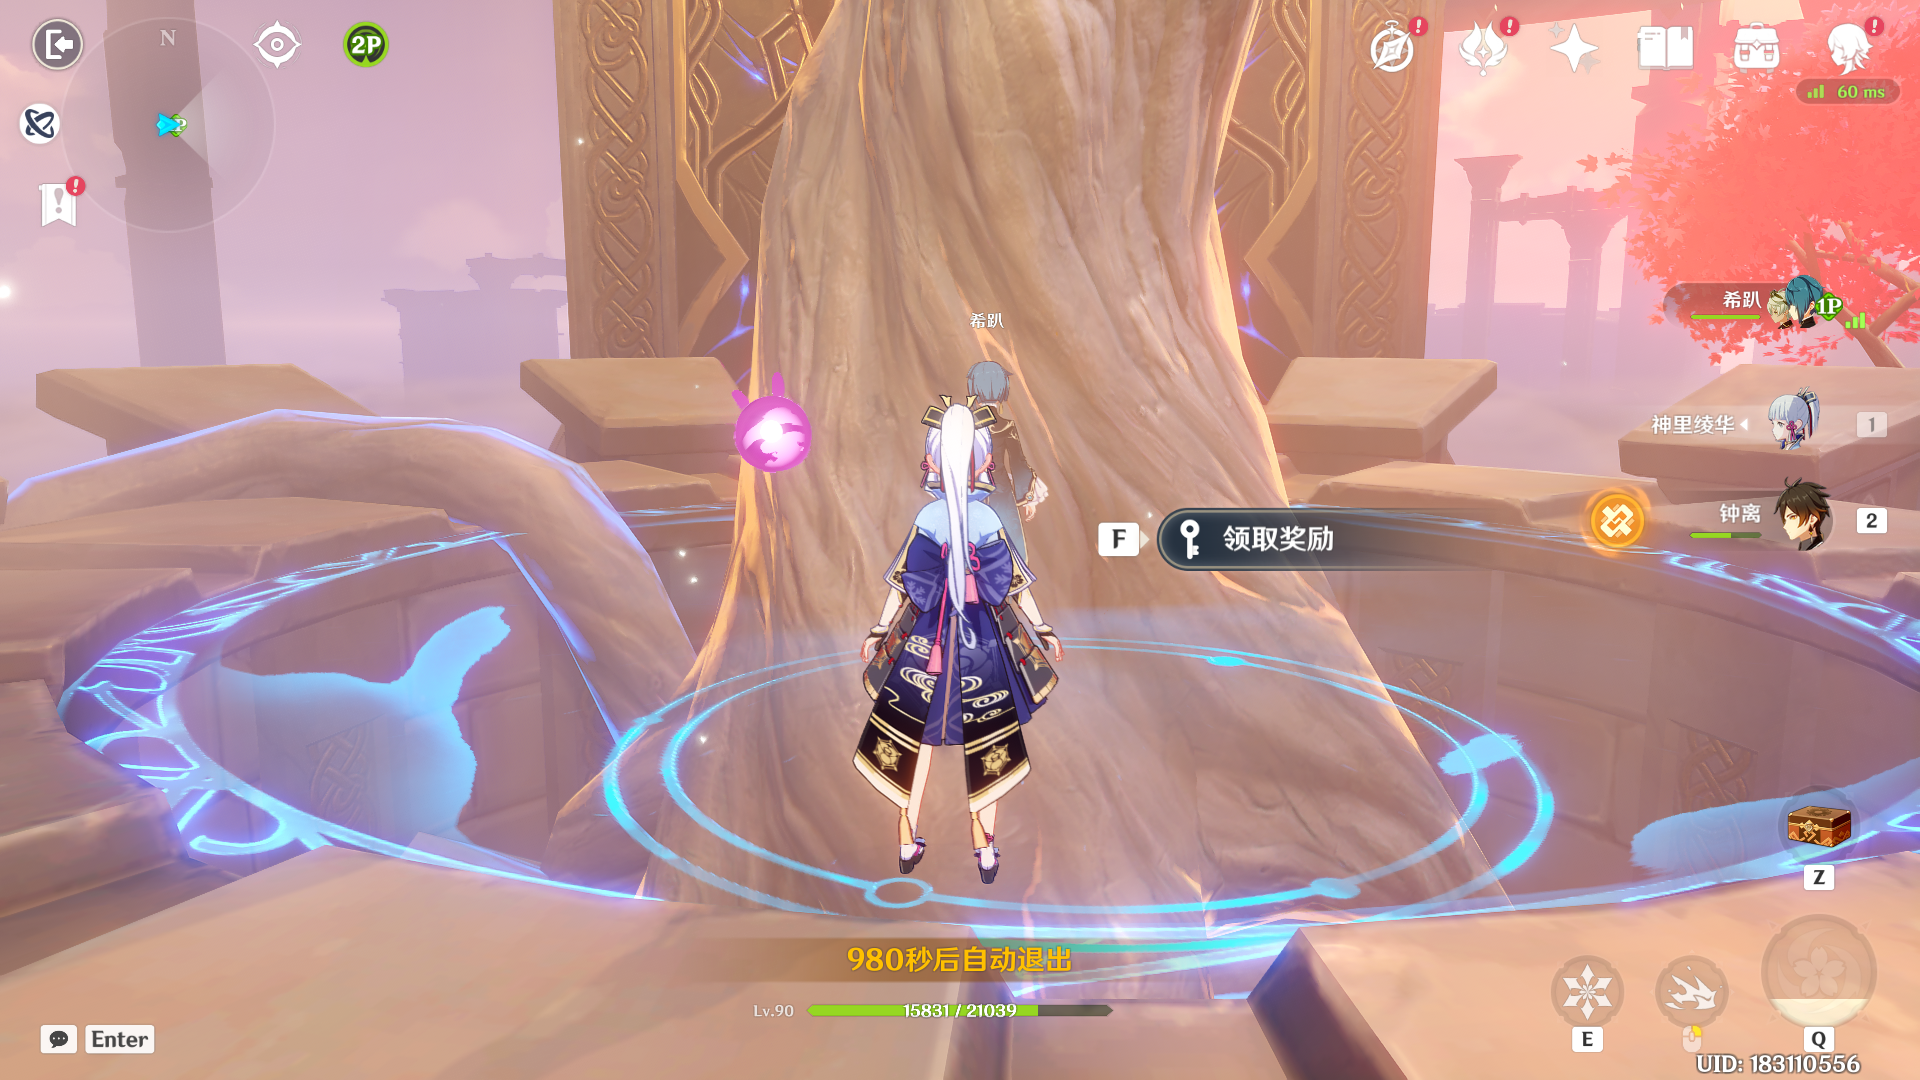character: (852, 402, 1073, 891)
